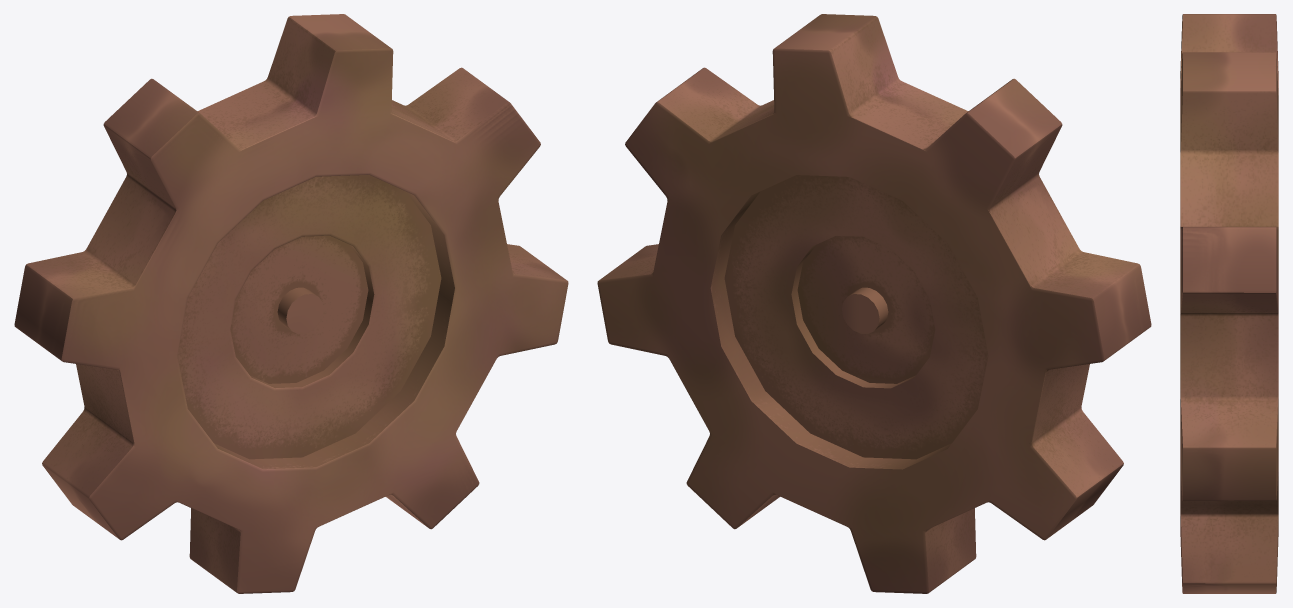
The model's file is Medium gear_2.fbx.
3 views of the same model, side by side, from view 1: azimuth 30°, elevation 25°; view 2: azimuth 150°, elevation 25°; view 3: azimuth 270°, elevation 25° (orthographic).
Visible parts, largest first — view 1: Medium gear; view 2: Medium gear; view 3: Medium gear.
Part boxes in pixels (x1,y1,x2,y2): Medium gear: (14, 14, 568, 593); Medium gear: (597, 14, 1151, 593); Medium gear: (1180, 14, 1278, 593).
Bounding box in the file's own units: 855 × 855 × 146.
